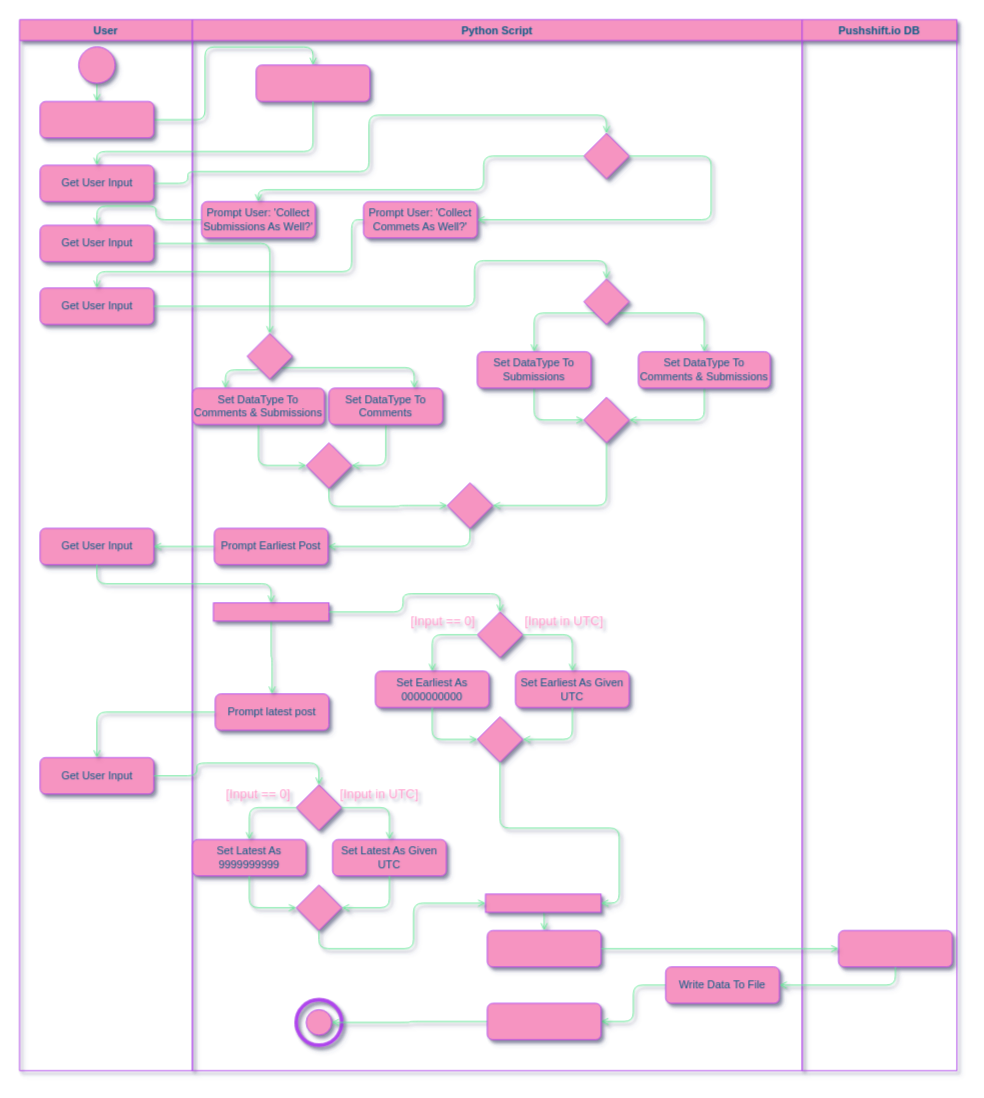
Image size: 984x1098. Some labels were removed from this diagram. Here are the shapes that lost their labels. From the top down, the centre of each, then its label:
(x=313, y=84): Prompt User For Data Type
(x=97, y=120): Start Program
(x=607, y=157): [Comments] [Submissions]
(x=607, y=302): [No] [Yes]
(x=270, y=357): [Yes] [No]
(x=545, y=949): Query Databade
(x=896, y=949): Return Query
(x=545, y=1022): Save File To Local
